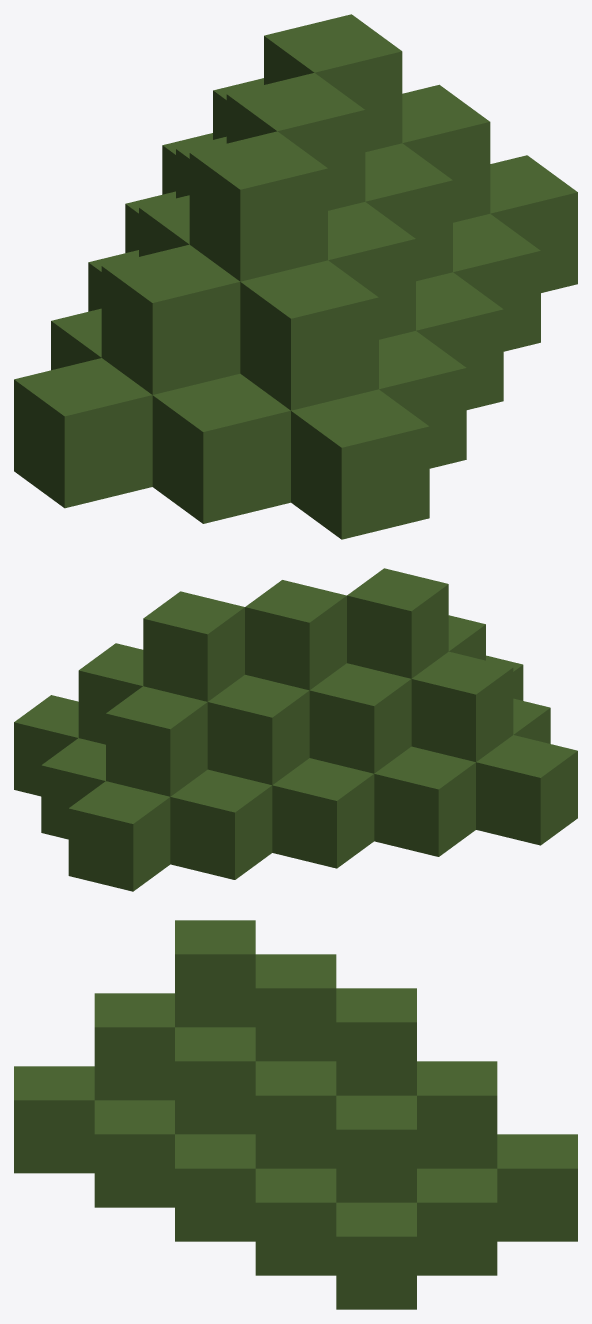
The model's file is bush.gltf.
The picture shows the model from 3 angles, top to bottom: view 1: azimuth 30°, elevation 25°; view 2: azimuth 150°, elevation 25°; view 3: azimuth 270°, elevation 25°; orthographic projection. The views are drawn at different scales.
Visible parts, largest first — view 1: Layer.1; view 2: Layer.1; view 3: Layer.1.
Boxes of the visible parts, x1,y1,x2,y2 form: Layer.1: [14, 14, 577, 539]; Layer.1: [14, 568, 577, 891]; Layer.1: [14, 920, 577, 1309].
Size of the model in its own units: 7 by 3 by 7.
1 material, 1 textured.
